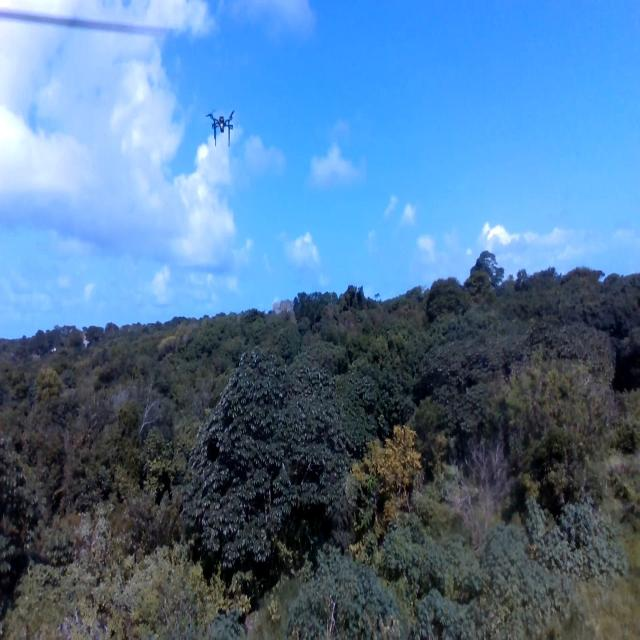-uav-: (204, 106, 242, 150)
